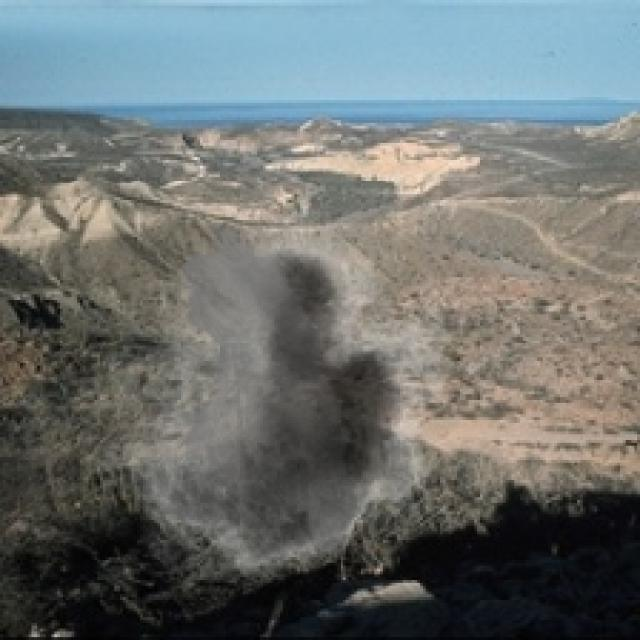Smoke: (80, 214, 469, 597)
